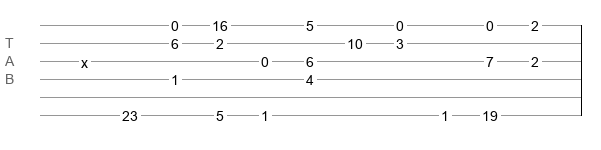0: (171, 18, 179, 28), (261, 54, 269, 64), (396, 18, 404, 28), (486, 18, 494, 28)
1: (171, 72, 179, 82), (261, 108, 269, 118), (441, 108, 449, 118)
10: (347, 36, 363, 46)
16: (212, 18, 228, 28)
19: (482, 108, 498, 118)
2: (216, 36, 224, 46), (531, 18, 539, 28), (531, 54, 539, 64)
23: (122, 108, 138, 118)
3: (396, 36, 404, 46)
4: (306, 72, 314, 82)
5: (216, 108, 224, 118), (306, 18, 314, 28)
6: (171, 36, 179, 46), (306, 54, 314, 64)
7: (486, 54, 494, 64)
x: (81, 55, 88, 63)
